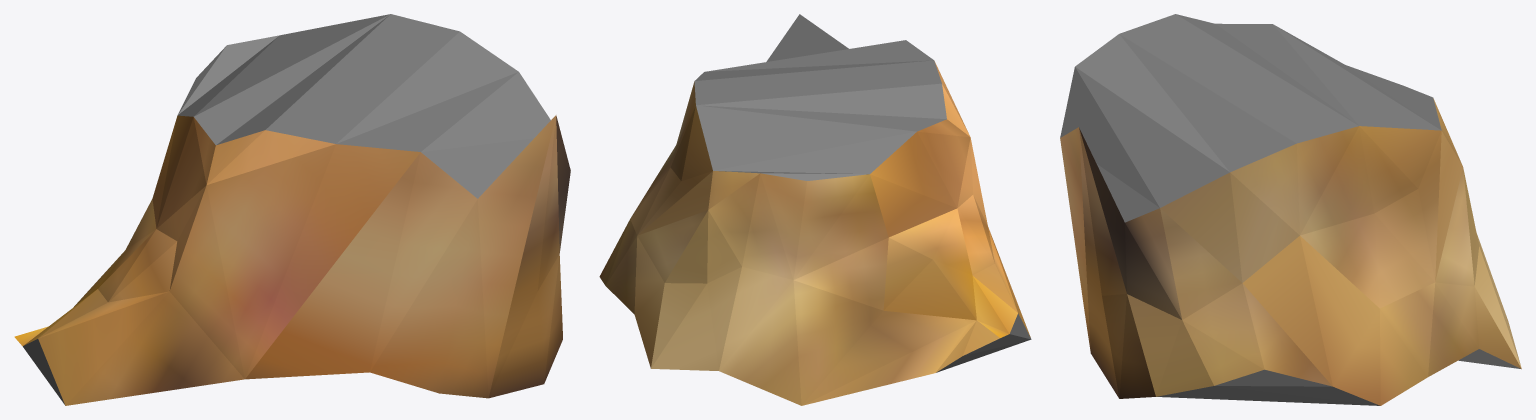
Rendered from basipodite5_right.obj.
The picture shows the model from 3 angles, left to right: view 1: azimuth 30°, elevation 25°; view 2: azimuth 150°, elevation 25°; view 3: azimuth 270°, elevation 25°; orthographic projection. The views are drawn at different scales.
Parts seen in each view (by area): view 1: 5_left_leg_5_left.098; view 2: 5_left_leg_5_left.098; view 3: 5_left_leg_5_left.098.
Boxes of the visible parts, left/top/right/bottom form: 5_left_leg_5_left.098: left=14, top=14, right=570, bottom=405; 5_left_leg_5_left.098: left=599, top=14, right=1031, bottom=405; 5_left_leg_5_left.098: left=1060, top=14, right=1521, bottom=405.
Size of the model in its own units: 0.3916 by 0.2312 by 0.3333.
Materials: 14 (12 with a texture image).
